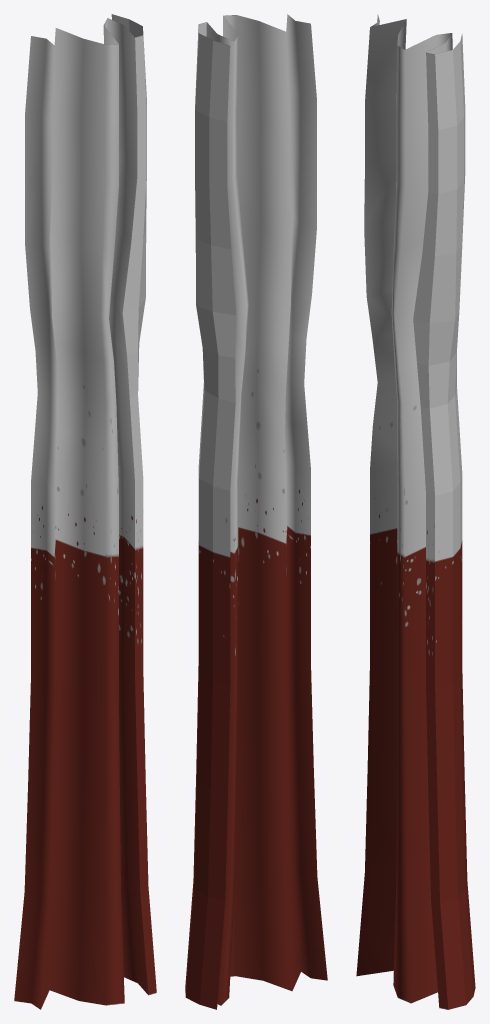
File: cortinaRollo2.fbx
The picture shows the model from 3 angles, left to right: view 1: azimuth 30°, elevation 25°; view 2: azimuth 210°, elevation 25°; view 3: azimuth 330°, elevation 25°; orthographic projection.
Visible parts, largest first — view 1: Plane003; view 2: Plane003; view 3: Plane003.
Part boxes in pixels (x1,y1,x2,y2): Plane003: (14, 14, 156, 1009); Plane003: (185, 14, 327, 1009); Plane003: (356, 14, 475, 1009).
Bounding box in the file's own units: 0.217 × 1.61 × 0.1068.
